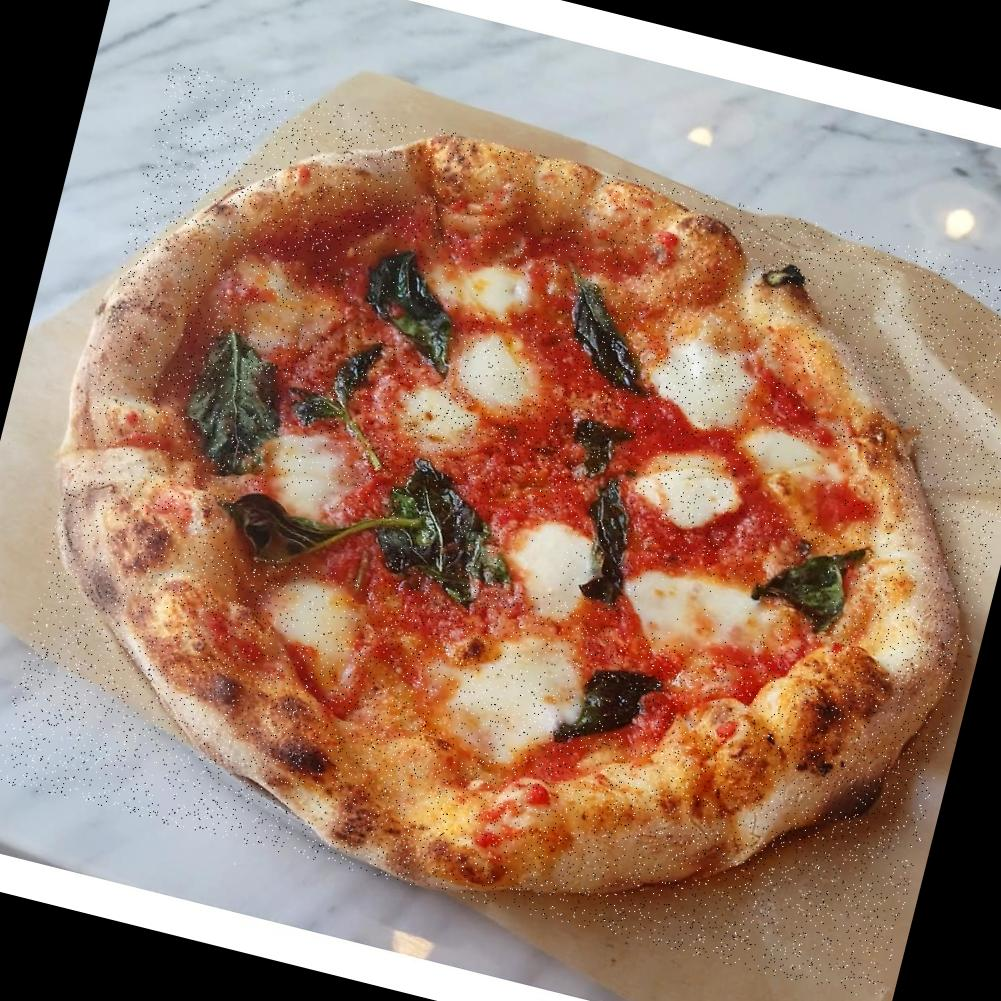Arugula: (177, 311, 290, 458), (344, 232, 476, 356), (557, 472, 671, 614), (378, 466, 501, 592), (225, 487, 386, 582), (558, 274, 661, 387), (299, 336, 394, 434), (761, 532, 862, 622), (562, 652, 656, 740)
Cheese: (448, 635, 574, 767), (630, 561, 768, 660), (491, 510, 610, 609), (644, 332, 755, 430), (634, 439, 754, 529), (750, 431, 855, 528), (268, 575, 370, 673), (264, 423, 347, 514), (453, 338, 542, 410), (438, 258, 528, 320), (398, 379, 473, 448)
Pizza: (0, 61, 1001, 1001)
